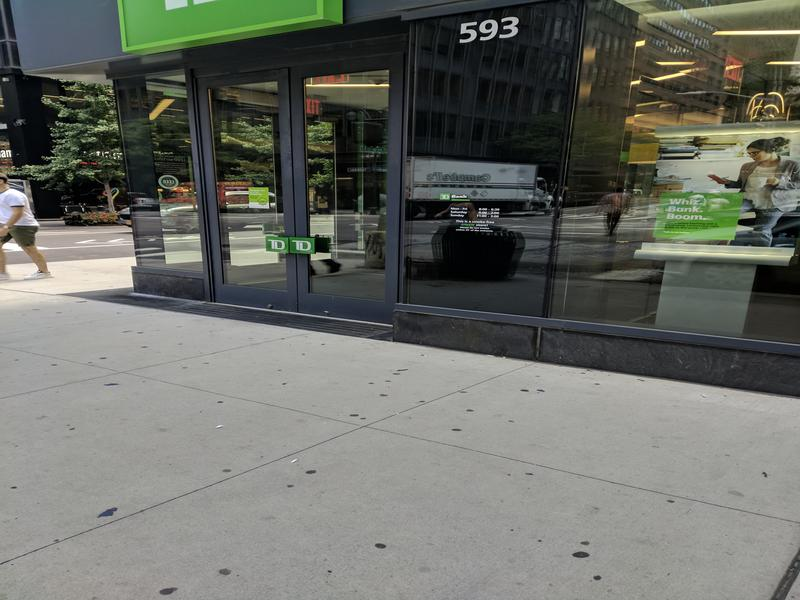double_door: (191, 66, 401, 321)
